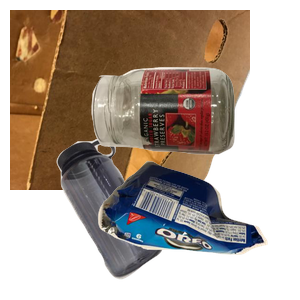cardboard: (10, 10, 250, 190)
glass: (89, 65, 300, 212)
plastic: (54, 136, 209, 300)
trash: (95, 158, 300, 300)
